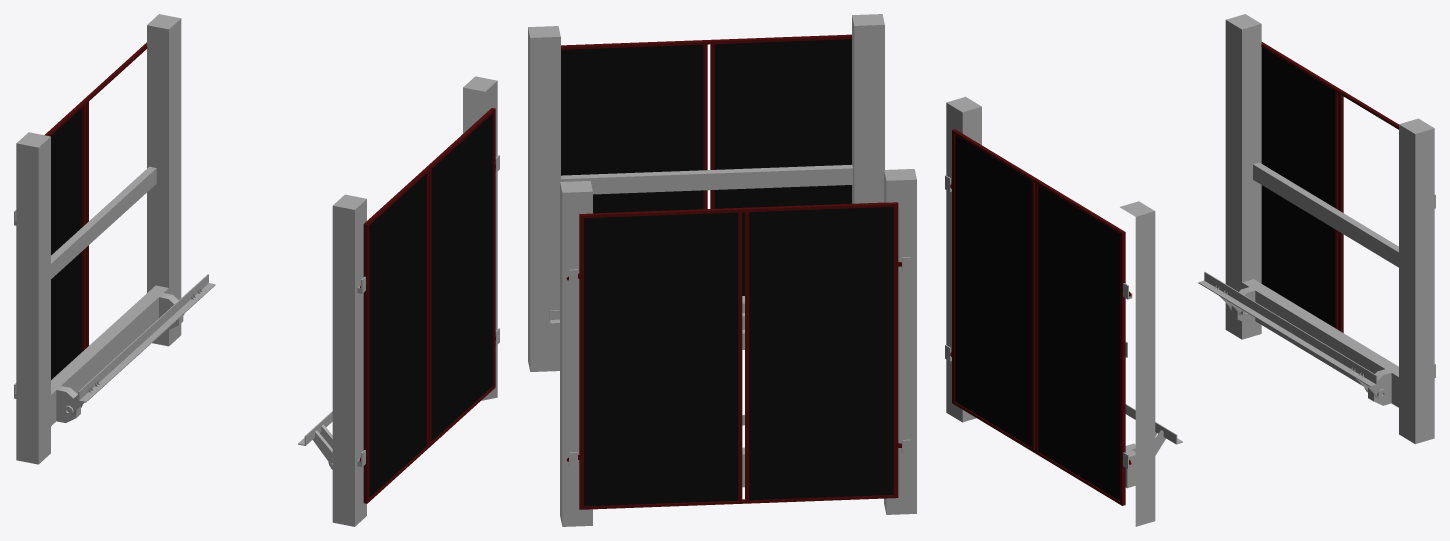
File: 4. AMR_Receipt.FBX
The picture shows the model from 3 angles, left to right: view 1: azimuth 30°, elevation 25°; view 2: azimuth 150°, elevation 25°; view 3: azimuth 270°, elevation 25°; orthographic projection. The views are drawn at different scales.
Visible parts, largest first — view 1: AMR_Receipt; view 2: AMR_Receipt; view 3: AMR_Receipt.
Boxes of the visible parts, x1,y1,x2,y2 form: AMR_Receipt: (14,14,499,526); AMR_Receipt: (528,14,916,526); AMR_Receipt: (945,14,1435,526).
Size of the model in its own units: 318 by 325 by 227.
